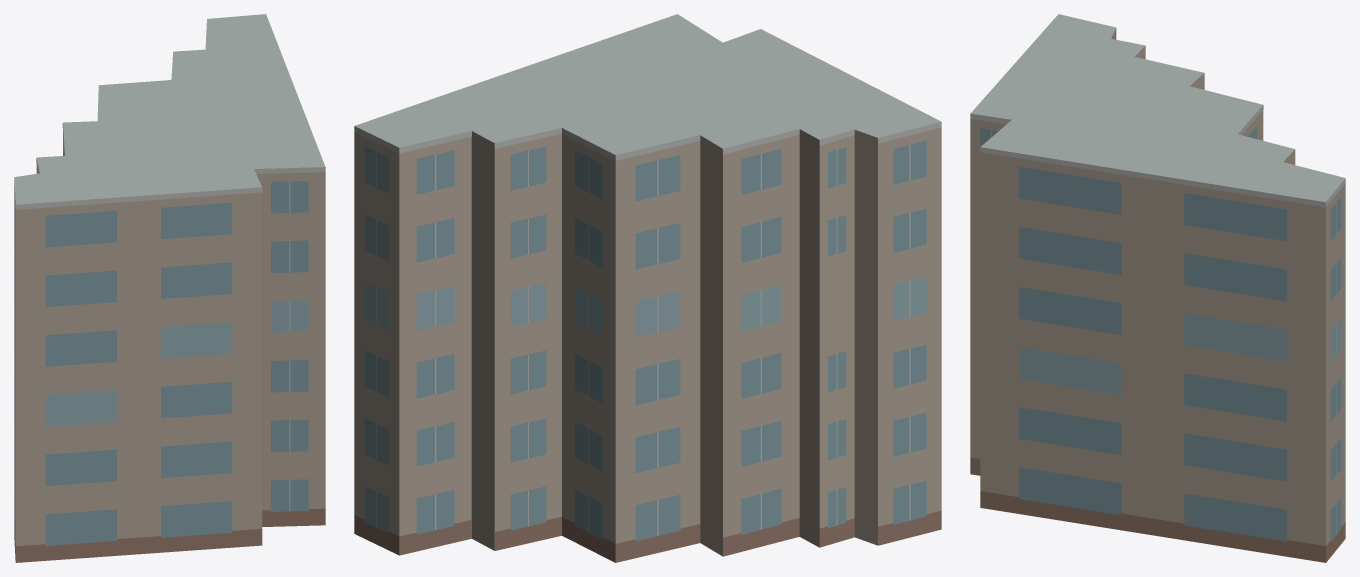
Rendered from survey-upis-32485618.glb.
The picture shows the model from 3 angles, left to right: view 1: azimuth 30°, elevation 25°; view 2: azimuth 150°, elevation 25°; view 3: azimuth 270°, elevation 25°; orthographic projection. The views are drawn at different scales.
Parts seen in each view (by area): view 1: survey-upis-32485618.tmp; view 2: survey-upis-32485618.tmp; view 3: survey-upis-32485618.tmp.
Part boxes in pixels (box(x1,y1,x2,y2)): survey-upis-32485618.tmp: box(14, 14, 325, 562); survey-upis-32485618.tmp: box(354, 14, 941, 562); survey-upis-32485618.tmp: box(970, 14, 1345, 562).
Size of the model in its own units: 19.21 by 17.15 by 16.18.
